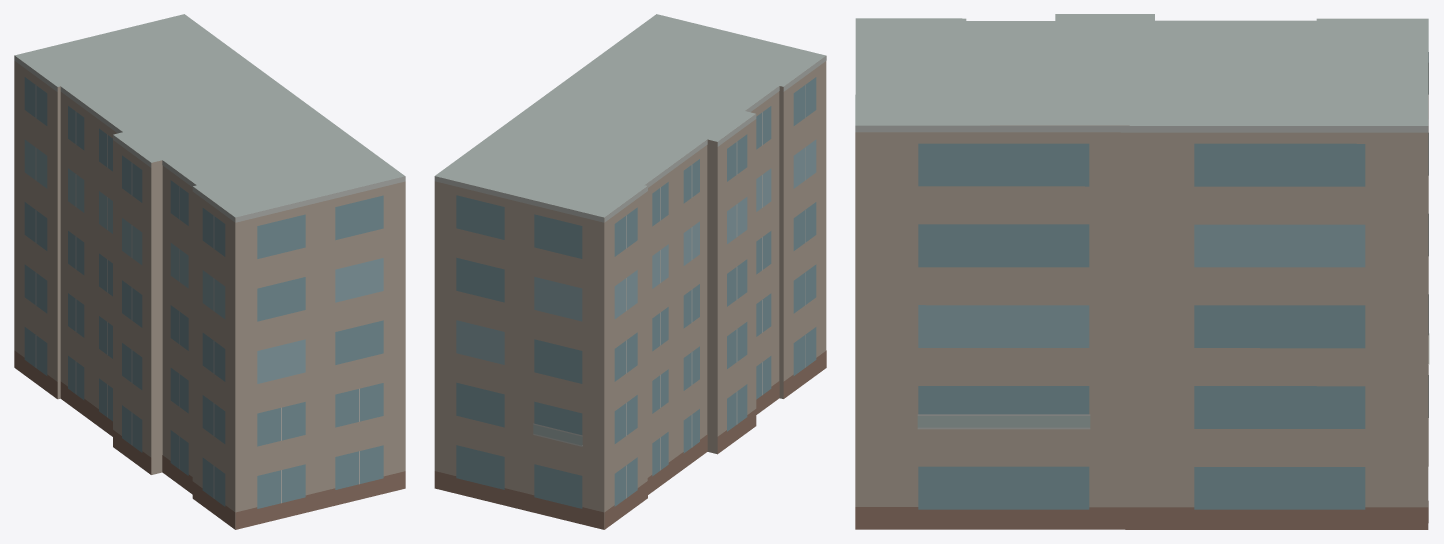
The model's file is survey-upis-32924739.glb.
3 renders of one model, left to right at view 1: azimuth 30°, elevation 25°; view 2: azimuth 150°, elevation 25°; view 3: azimuth 270°, elevation 25°, orthographic. The views are drawn at different scales.
Visible parts, largest first — view 1: survey-upis-32924739.tmp; view 2: survey-upis-32924739.tmp; view 3: survey-upis-32924739.tmp.
Boxes of the visible parts, x1=… form: survey-upis-32924739.tmp: x1=14, y1=14, x2=405, y2=529; survey-upis-32924739.tmp: x1=434, y1=14, x2=826, y2=529; survey-upis-32924739.tmp: x1=855, y1=14, x2=1429, y2=529.
Size of the model in its own units: 8.77 by 14.7 by 18.95.
